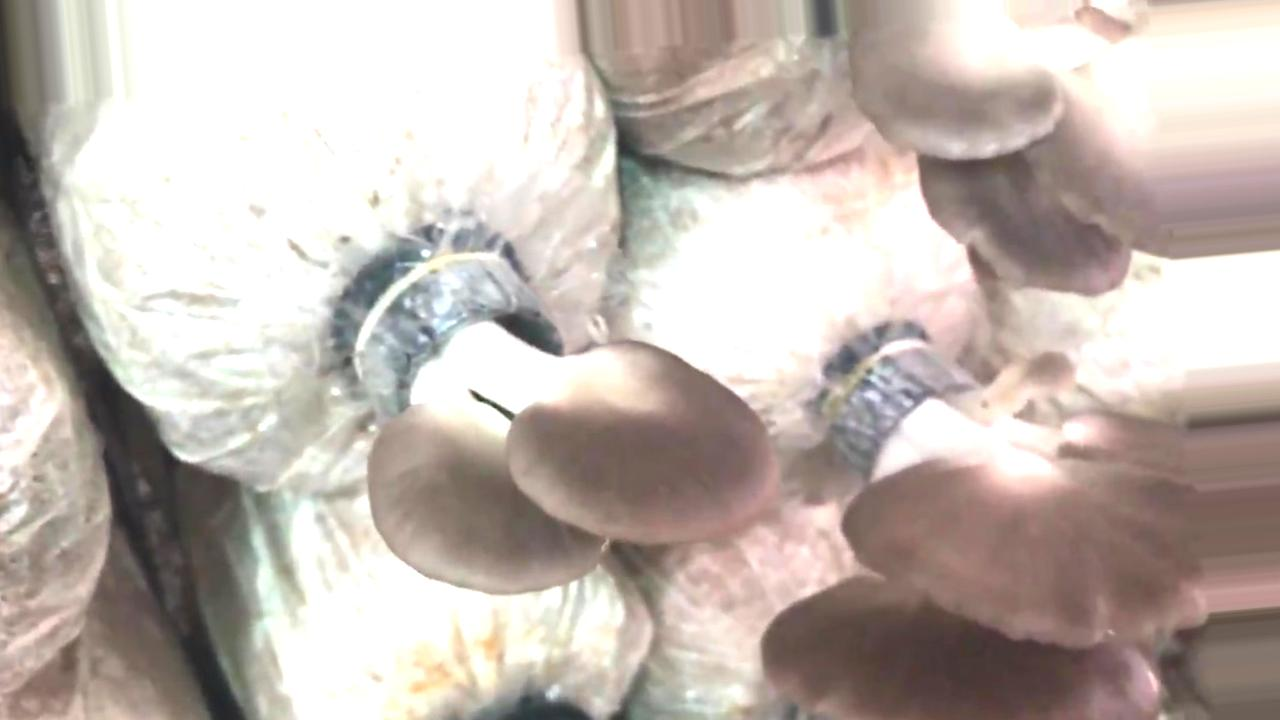nam: (759, 334, 1280, 715), (370, 259, 773, 599), (849, 3, 1277, 298)
